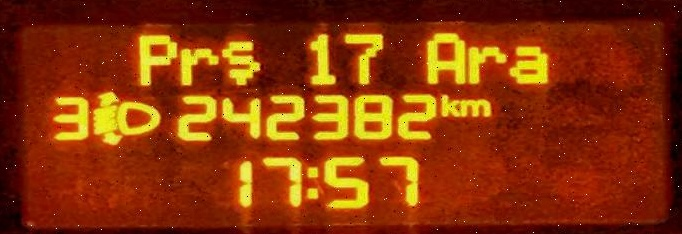1: (307, 30, 338, 85), (233, 156, 257, 211)
2: (395, 91, 437, 140), (264, 91, 305, 140), (177, 92, 216, 143)
3: (311, 90, 350, 141), (52, 92, 87, 143)
4: (219, 93, 260, 140)
5: (322, 154, 371, 209)
7: (376, 154, 421, 210), (344, 30, 387, 85), (260, 154, 301, 209)
8: (353, 92, 393, 141)
X: (424, 33, 466, 85), (136, 32, 174, 87), (220, 37, 260, 85), (465, 41, 506, 86), (507, 43, 548, 84), (178, 43, 216, 86), (459, 97, 492, 120), (304, 163, 320, 200), (440, 91, 458, 118)
